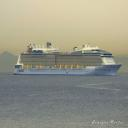cruises: (14, 42, 124, 78)
